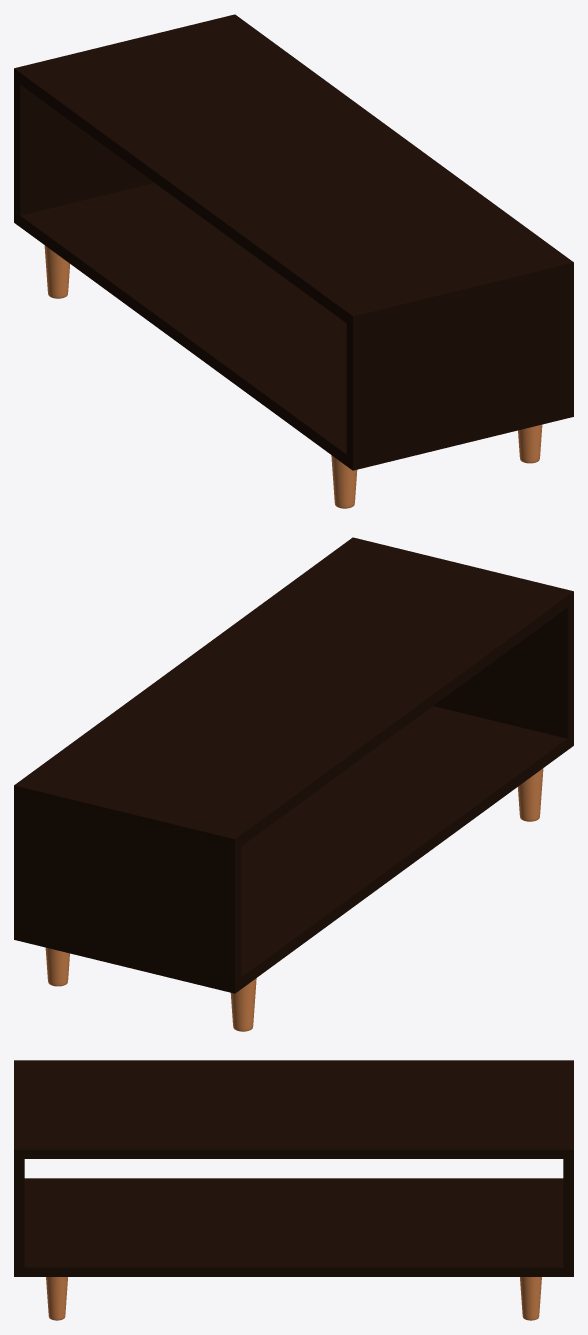
The model's file is model_Classic_TvTable.fbx.
3 views of the same model, one above another, from view 1: azimuth 30°, elevation 25°; view 2: azimuth 150°, elevation 25°; view 3: azimuth 270°, elevation 25° (orthographic). The views are drawn at different scales.
Parts seen in each view (by area): view 1: Cylinder; view 2: Cylinder; view 3: Cylinder.
Boxes of the visible parts, bbox=[...] form: Cylinder: bbox=[14, 14, 573, 508]; Cylinder: bbox=[14, 537, 573, 1031]; Cylinder: bbox=[14, 1060, 573, 1320].
Bounding box in the file's own units: 319 × 292 × 847.
